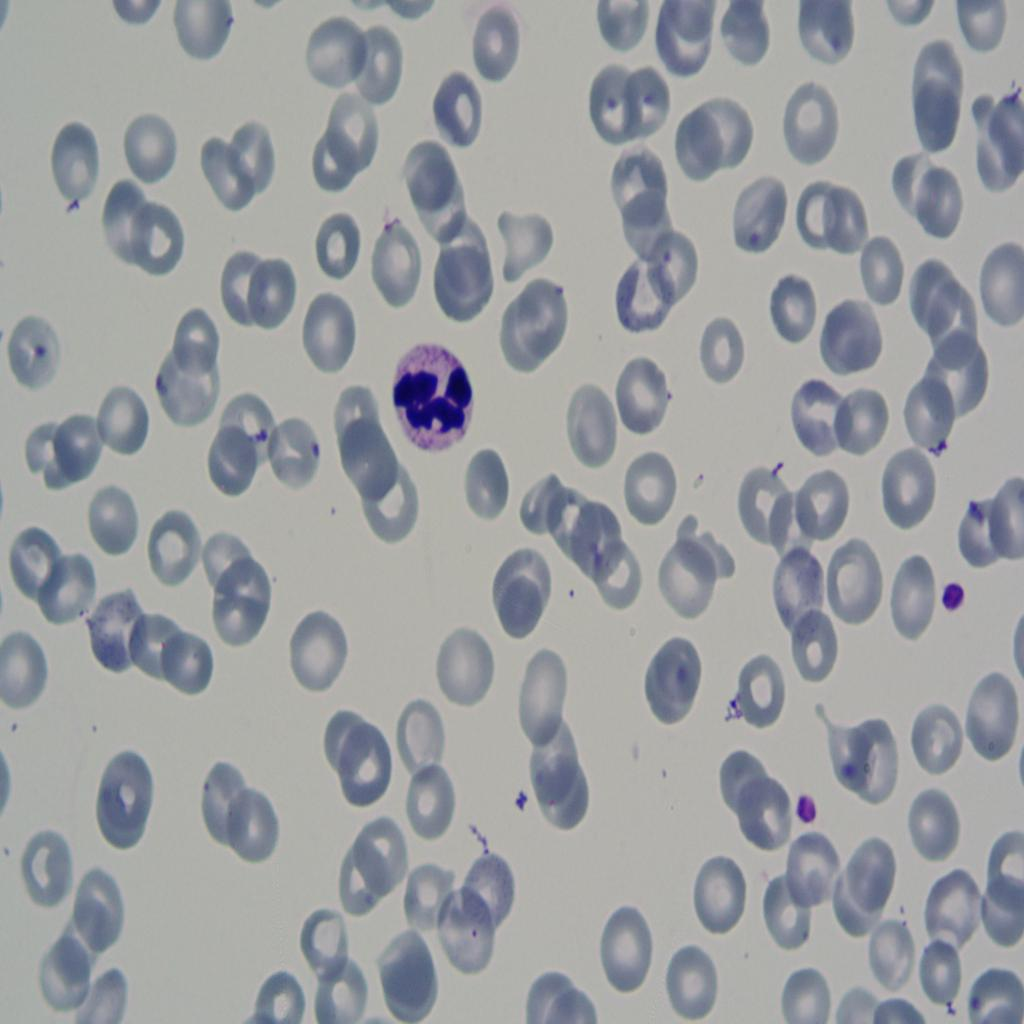Neutrofil: (392, 330, 482, 478)
Platelet: (787, 786, 838, 852), (927, 564, 967, 624), (501, 780, 532, 820)
